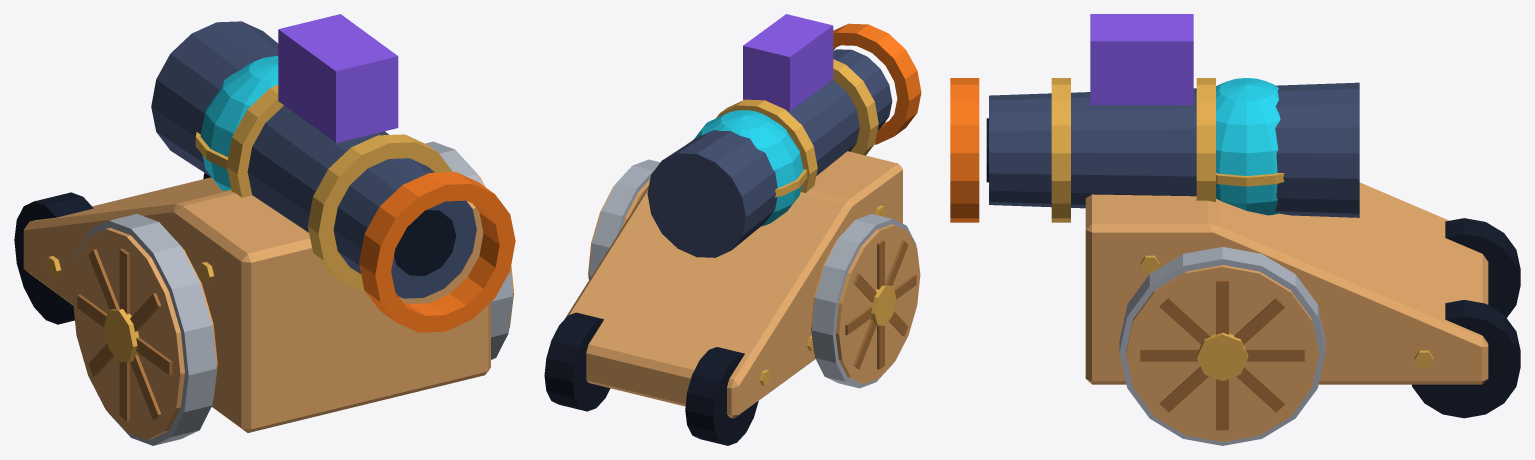
Rendered from Wrecker_v2.fbx.
3 views of the same model, side by side, from view 1: azimuth 30°, elevation 25°; view 2: azimuth 150°, elevation 25°; view 3: azimuth 270°, elevation 25° (orthographic). The views are drawn at different scales.
Visible parts, largest first — view 1: Carriage, Barrel, Wheel_FR, Slot_Booster, Slot_Module, Slot_Core, Wheel_RR, Wheel_FL; view 2: Carriage, Barrel, Wheel_FR, Slot_Module, Wheel_RR, Wheel_RL, Slot_Core, Slot_Booster, Wheel_FL; view 3: Carriage, Barrel, Wheel_FL, Slot_Module, Slot_Core, Wheel_RL, Slot_Booster, Wheel_RR.
Boxes of the visible parts, box(x1,y1,x2,y2) form: Carriage: box(23, 177, 490, 432); Barrel: box(151, 21, 476, 298); Wheel_FR: box(72, 214, 217, 445); Slot_Booster: box(359, 172, 515, 332); Slot_Module: box(278, 14, 398, 142); Slot_Core: box(195, 56, 278, 190); Wheel_RR: box(14, 192, 93, 324); Wheel_FL: box(425, 141, 513, 359); Carriage: box(565, 139, 902, 418); Barrel: box(647, 49, 892, 257); Wheel_FR: box(811, 214, 920, 388); Slot_Module: box(743, 14, 833, 110); Wheel_RR: box(685, 347, 758, 445); Wheel_RL: box(544, 312, 610, 411); Slot_Core: box(693, 110, 807, 226); Slot_Booster: box(833, 23, 921, 144); Wheel_FL: box(588, 159, 660, 279); Carriage: box(1085, 182, 1488, 384); Barrel: box(986, 78, 1359, 222); Wheel_FL: box(1119, 247, 1325, 445); Slot_Module: box(1090, 14, 1193, 105); Slot_Core: box(1216, 78, 1284, 215); Wheel_RL: box(1412, 300, 1520, 418); Slot_Booster: box(950, 78, 979, 222); Wheel_RR: box(1445, 218, 1520, 317).
Size of what is drawn, in the model's own units: 2.24 by 2.38 by 3.54.
Materials: 1 (1 with a texture image).
